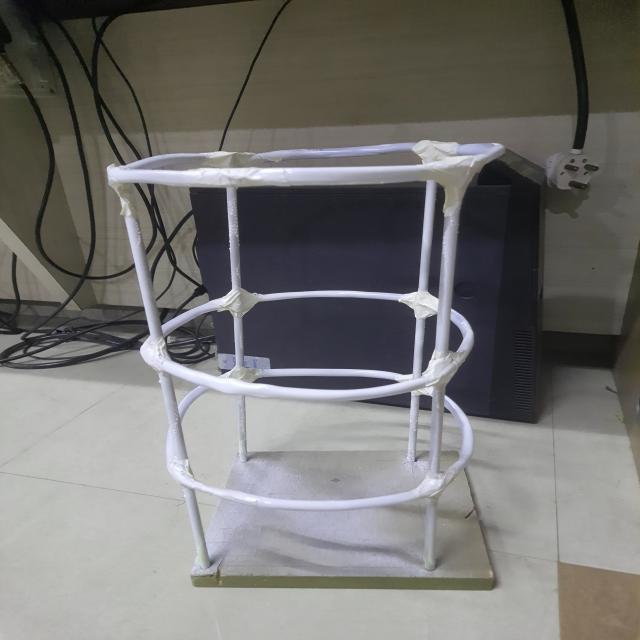silo: (118, 150, 464, 550)
